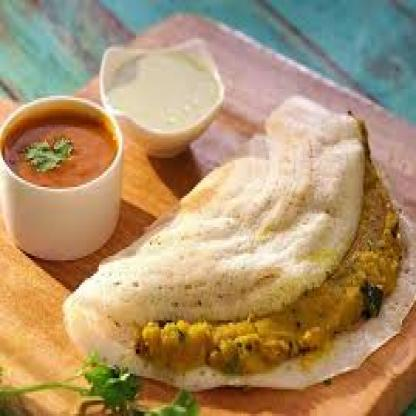dosa: (63, 93, 416, 389)
